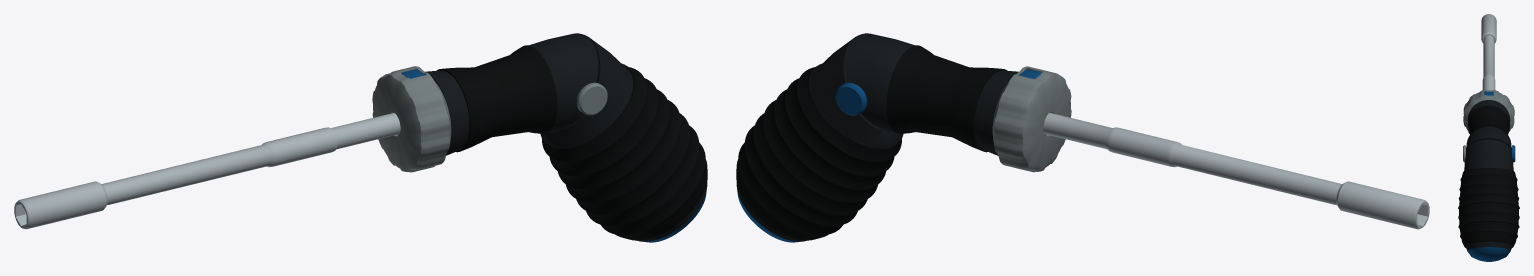
The picture shows the model from 3 angles, left to right: view 1: azimuth 30°, elevation 25°; view 2: azimuth 150°, elevation 25°; view 3: azimuth 270°, elevation 25°; orthographic projection. The views are drawn at different scales.
Visible parts, largest first — view 1: part_010_Ribbed_grip_overmold, part_000_Waist_grip_sleeve, part_024_Continuous_drive_shank, part_023_Fluted_direction_selector, part_021_Forward_hollow_housing, part_014_Rear_hollow_grip_housing, part_025_Blind_hex_bit_socket, part_016_Pivot_opposite_cover; view 2: part_010_Ribbed_grip_overmold, part_000_Waist_grip_sleeve, part_024_Continuous_drive_shank, part_023_Fluted_direction_selector, part_021_Forward_hollow_housing, part_014_Rear_hollow_grip_housing, part_025_Blind_hex_bit_socket, part_015_Pivot_release_button; view 3: part_010_Ribbed_grip_overmold, part_014_Rear_hollow_grip_housing, part_000_Waist_grip_sleeve, part_021_Forward_hollow_housing, part_023_Fluted_direction_selector, part_024_Continuous_drive_shank, part_008_Sliding_storage_cartridge_and_cap, part_025_Blind_hex_bit_socket, part_015_Pivot_release_button, part_016_Pivot_opposite_cover.
Boxes of the visible parts, <box> form: part_010_Ribbed_grip_overmold: <box>540,63,707,240</box>; part_000_Waist_grip_sleeve: <box>436,45,557,152</box>; part_024_Continuous_drive_shank: <box>102,112,400,204</box>; part_023_Fluted_direction_selector: <box>372,66,451,172</box>; part_021_Forward_hollow_housing: <box>425,33,598,155</box>; part_014_Rear_hollow_grip_housing: <box>542,35,707,241</box>; part_025_Blind_hex_bit_socket: <box>14,181,107,229</box>; part_016_Pivot_opposite_cover: <box>576,82,607,115</box>; part_010_Ribbed_grip_overmold: <box>736,63,903,240</box>; part_000_Waist_grip_sleeve: <box>886,45,1007,152</box>; part_024_Continuous_drive_shank: <box>1043,112,1341,204</box>; part_023_Fluted_direction_selector: <box>992,66,1071,172</box>; part_021_Forward_hollow_housing: <box>845,33,1018,155</box>; part_014_Rear_hollow_grip_housing: <box>736,35,901,241</box>; part_025_Blind_hex_bit_socket: <box>1336,181,1429,229</box>; part_015_Pivot_release_button: <box>835,82,867,115</box>; part_010_Ribbed_grip_overmold: <box>1458,168,1519,247</box>; part_014_Rear_hollow_grip_housing: <box>1464,139,1513,251</box>; part_000_Waist_grip_sleeve: <box>1466,105,1511,144</box>; part_021_Forward_hollow_housing: <box>1466,100,1511,149</box>; part_023_Fluted_direction_selector: <box>1463,90,1514,133</box>; part_024_Continuous_drive_shank: <box>1482,35,1495,90</box>; part_008_Sliding_storage_cartridge_and_cap: <box>1467,247,1510,261</box>; part_025_Blind_hex_bit_socket: <box>1481,14,1496,43</box>; part_015_Pivot_release_button: <box>1512,145,1515,162</box>; part_016_Pivot_opposite_cover: <box>1463,145,1465,162</box>.
Bounding box in the file's own units: 0.2462 × 0.0769 × 0.0388.
